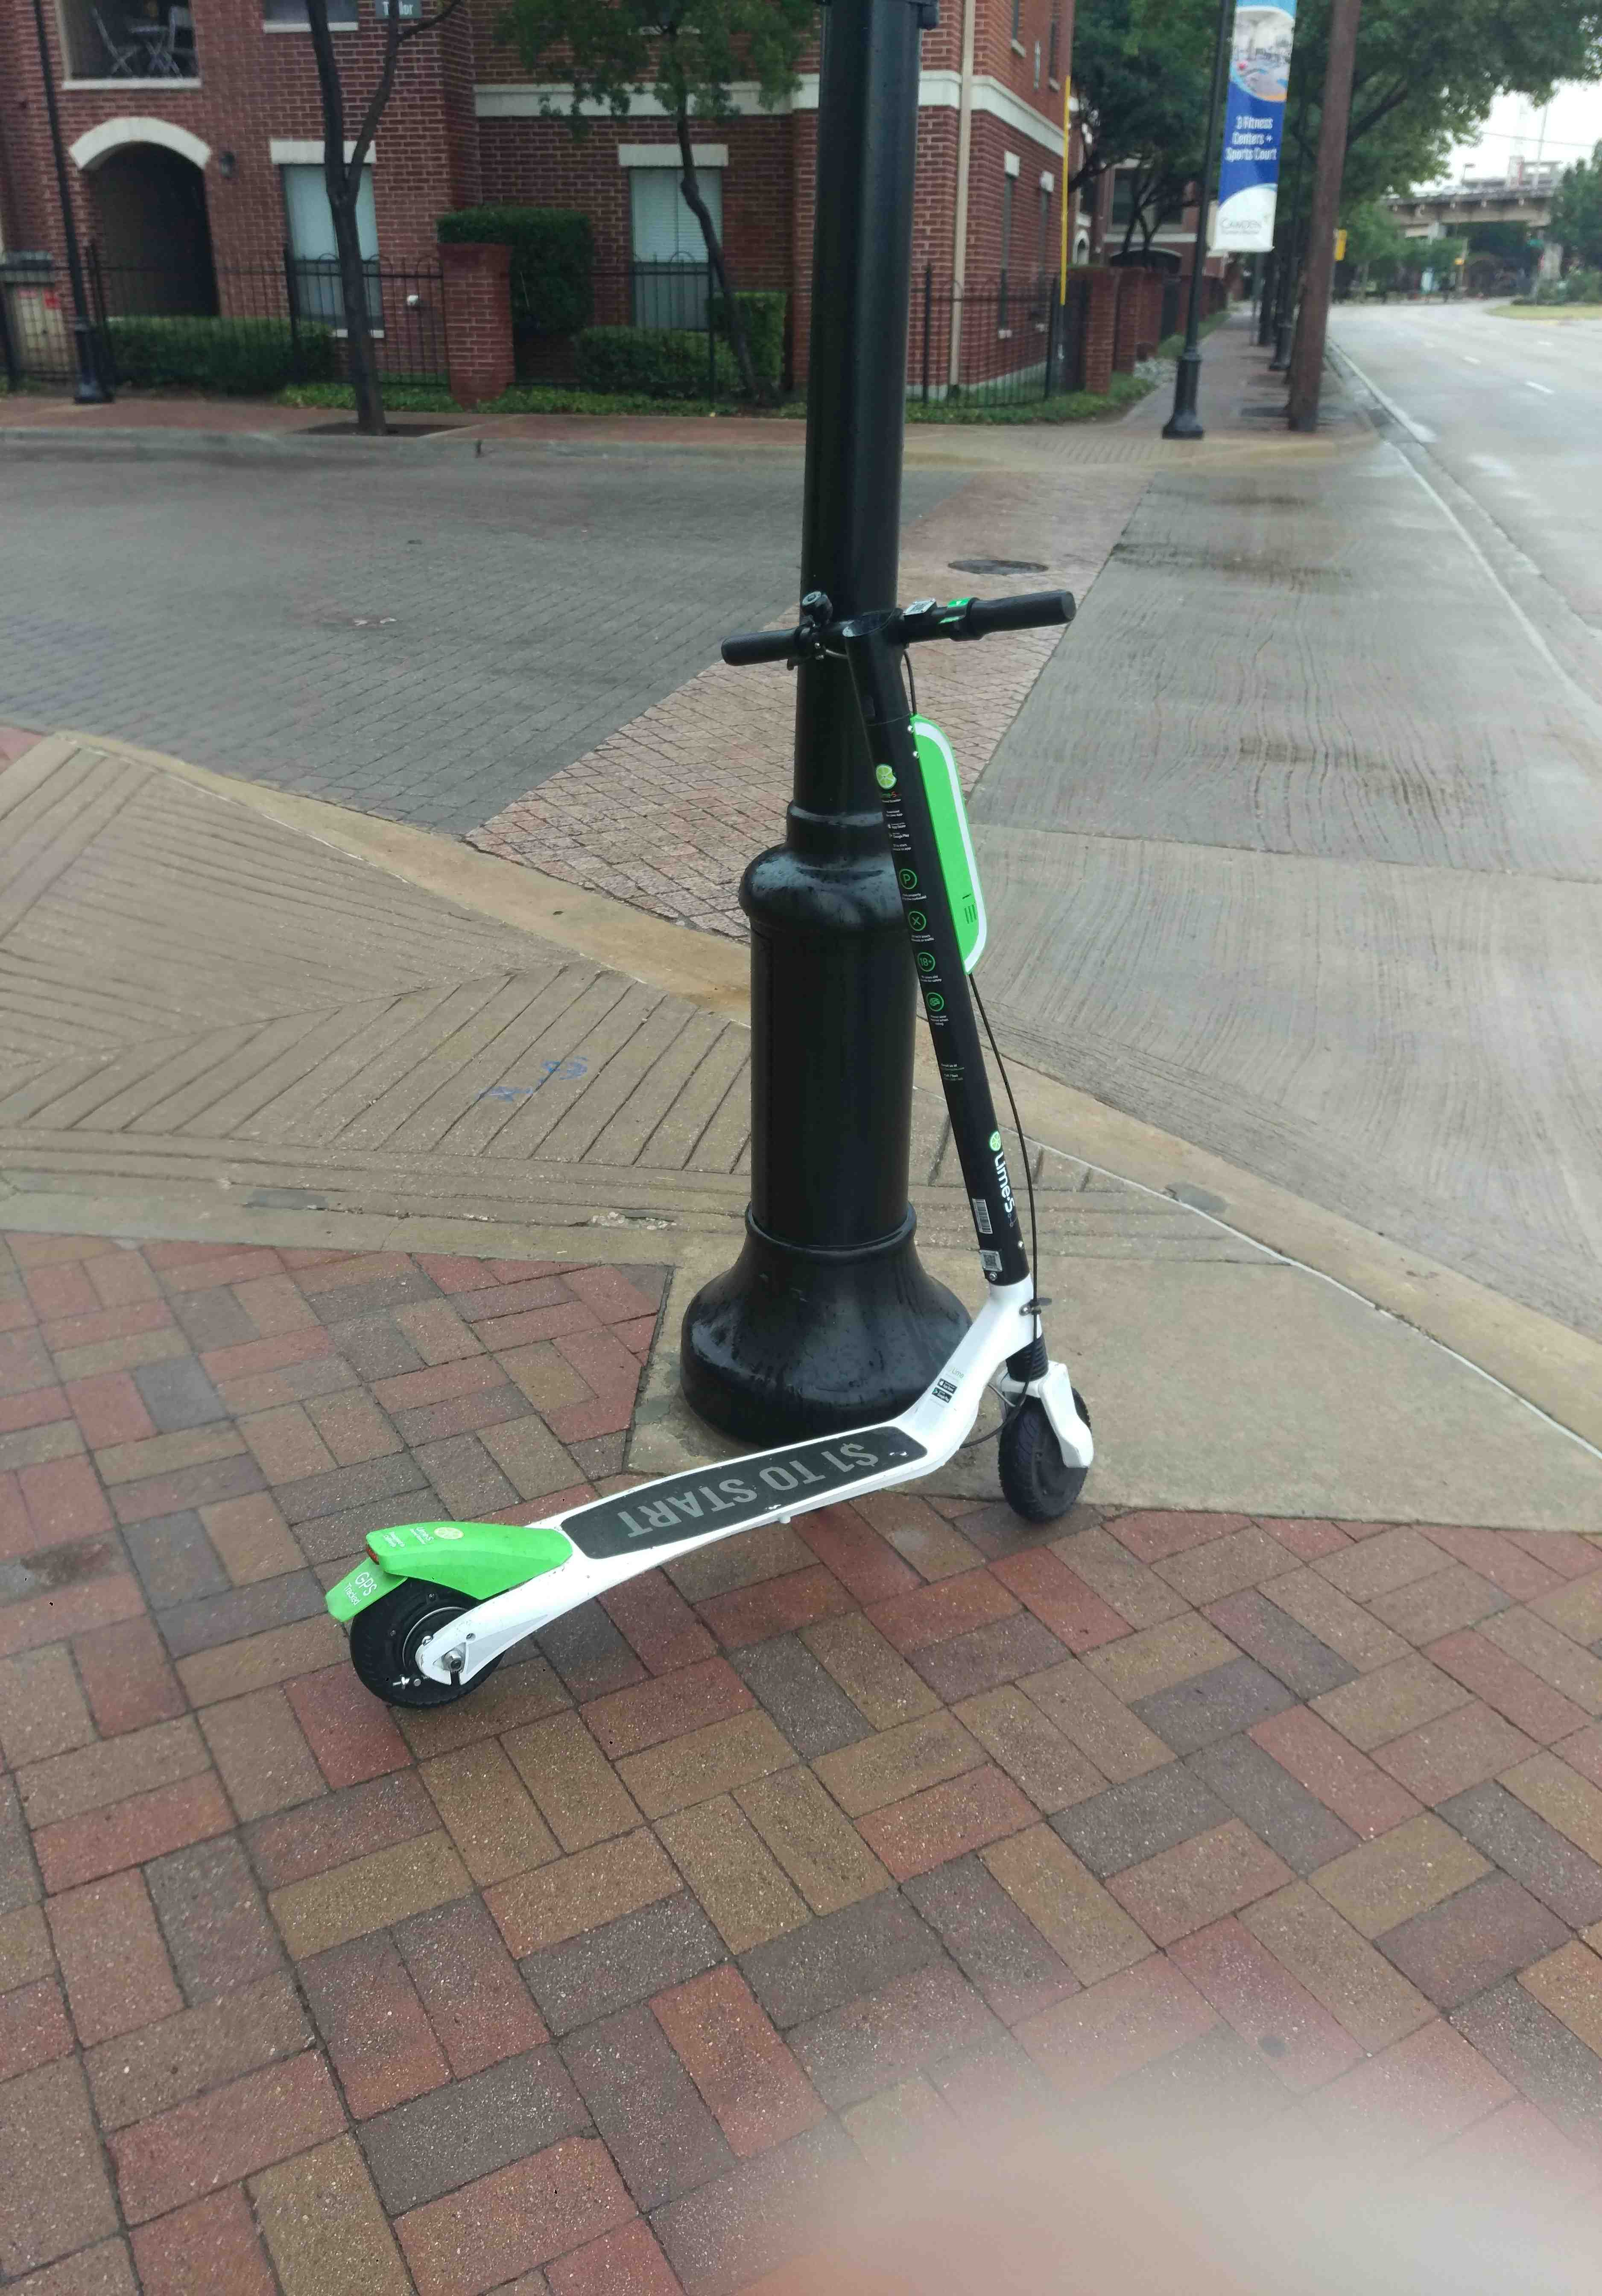scooter: (298, 537, 1147, 1760)
